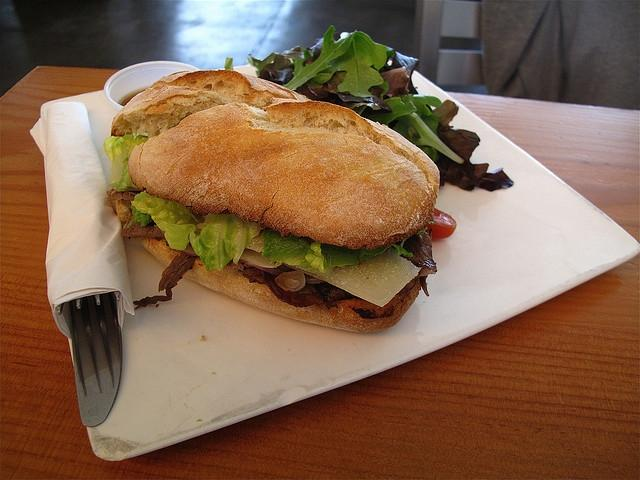lettuce: (426, 100, 514, 192), (283, 25, 387, 98), (262, 228, 358, 274), (131, 196, 199, 250), (392, 95, 443, 162), (104, 132, 150, 192), (368, 66, 412, 98), (336, 92, 392, 112), (260, 54, 294, 84), (308, 86, 338, 103)
tomato: (426, 208, 456, 239)
